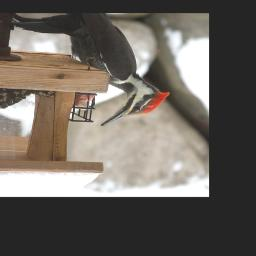Woodpecker: (3, 13, 180, 127)
